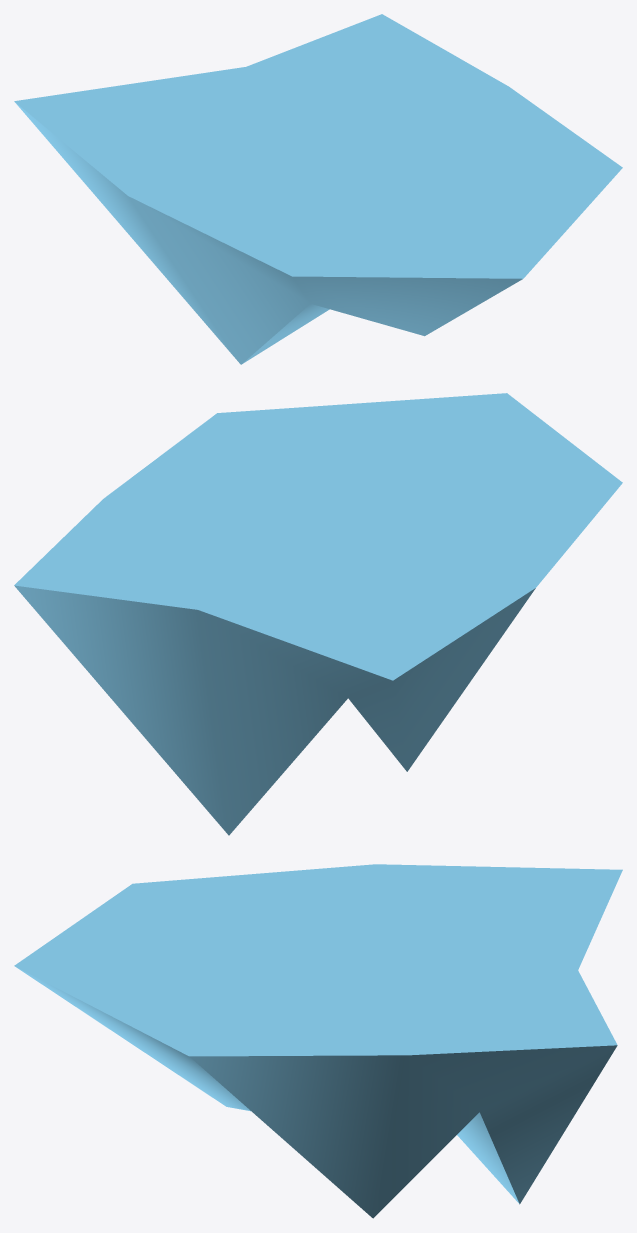
Rendered from Base EstalactitaProp.fbx.
The picture shows the model from 3 angles, top to bottom: view 1: azimuth 30°, elevation 25°; view 2: azimuth 150°, elevation 25°; view 3: azimuth 270°, elevation 25°; orthographic projection. The views are drawn at different scales.
Visible parts, largest first — view 1: Base Estalactita; view 2: Base Estalactita; view 3: Base Estalactita.
Part boxes in pixels (x1,y1,x2,y2): Base Estalactita: (14,14,622,364); Base Estalactita: (14,393,622,835); Base Estalactita: (14,864,622,1218).
Size of the model in its own units: 1.89 by 1.07 by 2.53.
